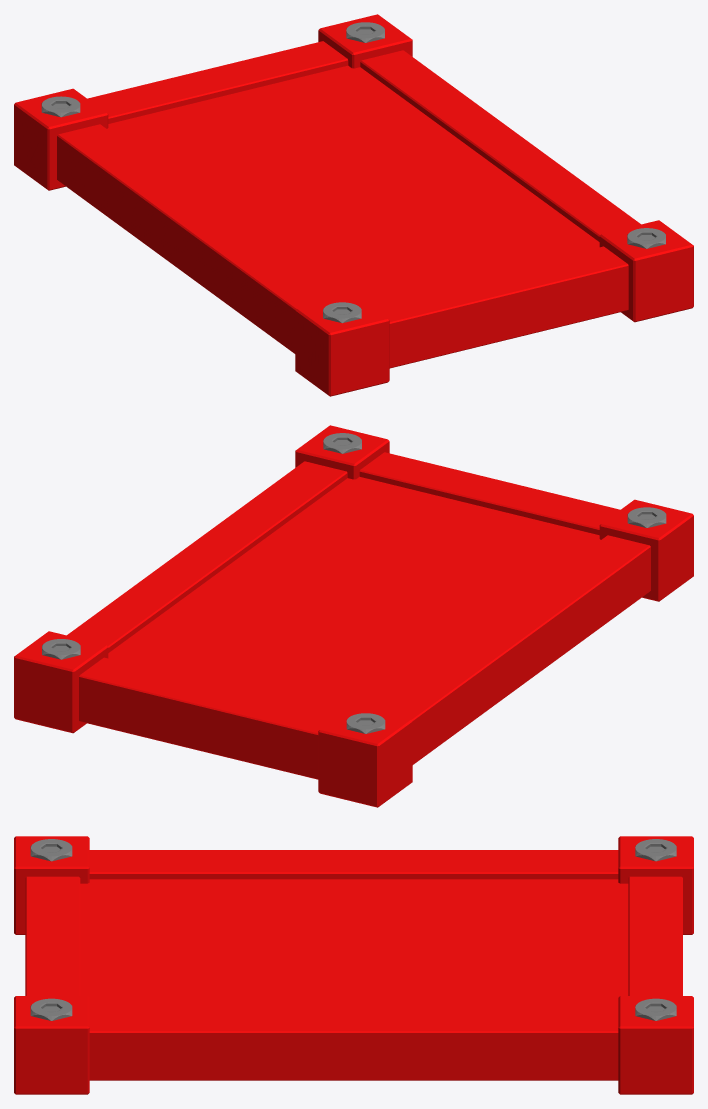
Rendered from FramedRectanglePlatformRed.fbx.
3 renders of one model, top to bottom at view 1: azimuth 30°, elevation 25°; view 2: azimuth 150°, elevation 25°; view 3: azimuth 270°, elevation 25°, orthographic. The views are drawn at different scales.
Visible parts, largest first — view 1: Cube, Cube.001; view 2: Cube, Cube.001; view 3: Cube, Cube.001.
Part boxes in pixels (x1=…): Cube: x1=14, y1=14, x2=693, y2=396; Cube.001: x1=41, y1=22, x2=665, y2=323; Cube: x1=14, y1=425, x2=693, y2=807; Cube.001: x1=42, y1=433, x2=666, y2=733; Cube: x1=14, y1=836, x2=693, y2=1094; Cube.001: x1=30, y1=839, x2=676, y2=1020.
Bounding box in the file's own units: 6 × 1.05 × 9.
